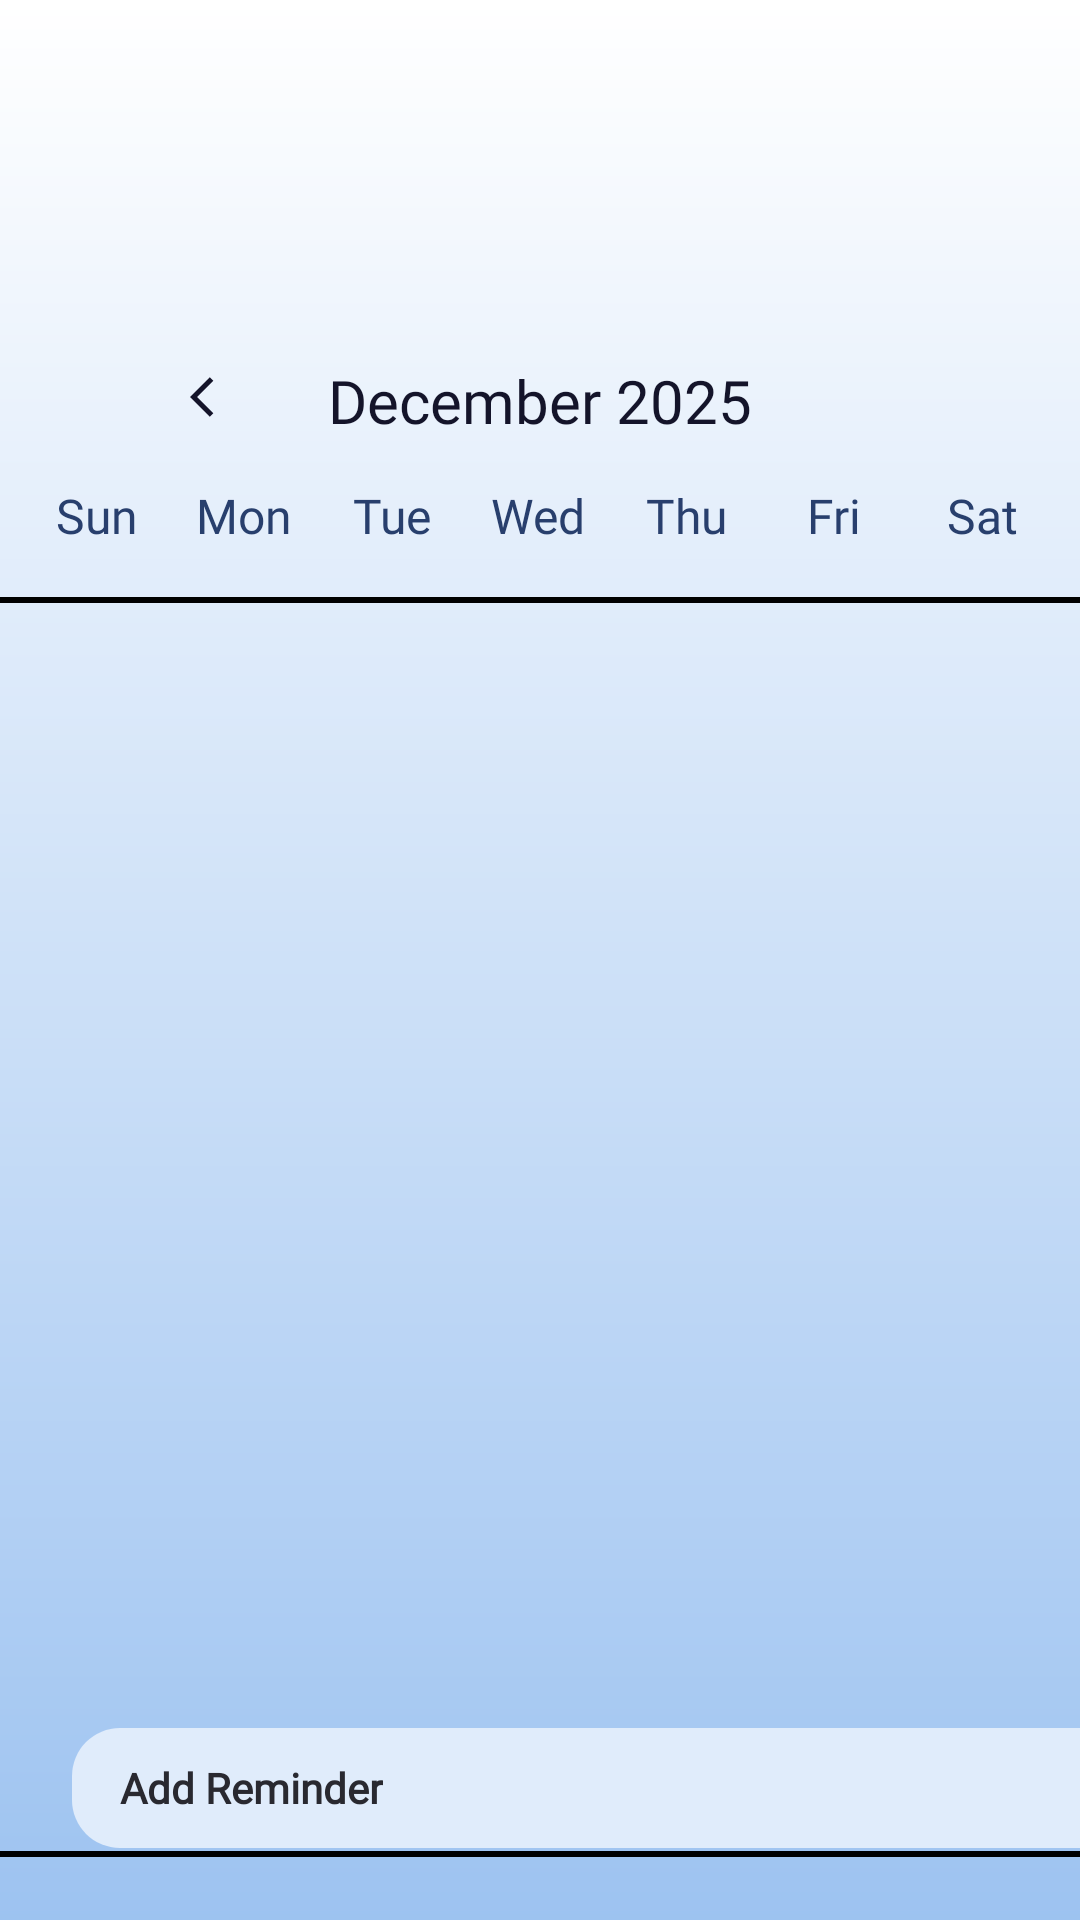

Icons on this 1080px x 1920px Android screen, each with its box as (x1, y1, x2, y2):
Arrow Left: (190, 377, 213, 417)
